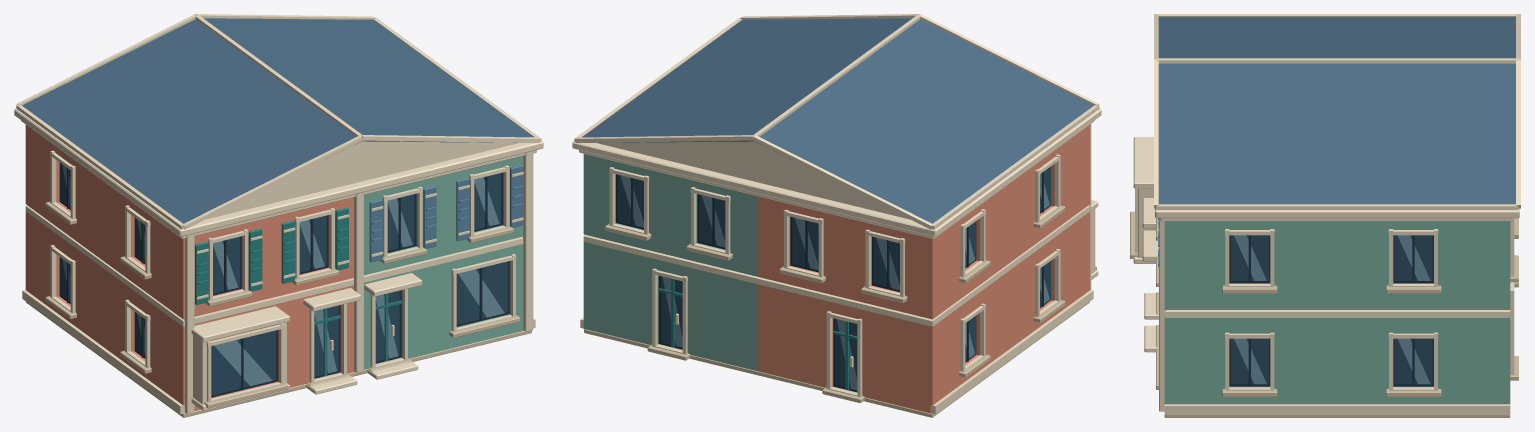
File: paired_semi_detached.glb
3 views of the same model, side by side, from view 1: azimuth 30°, elevation 25°; view 2: azimuth 150°, elevation 25°; view 3: azimuth 270°, elevation 25° (orthographic). The views are drawn at different scales.
Visible parts, largest first — view 1: PairedSemiDetached_StaticMesh; view 2: PairedSemiDetached_StaticMesh; view 3: PairedSemiDetached_StaticMesh.
Boxes of the visible parts, <box> form: PairedSemiDetached_StaticMesh: <box>14,14,543,417</box>; PairedSemiDetached_StaticMesh: <box>572,14,1101,417</box>; PairedSemiDetached_StaticMesh: <box>1130,14,1520,417</box>.
Size of the model in its own units: 12.52 by 7.97 by 10.62.
